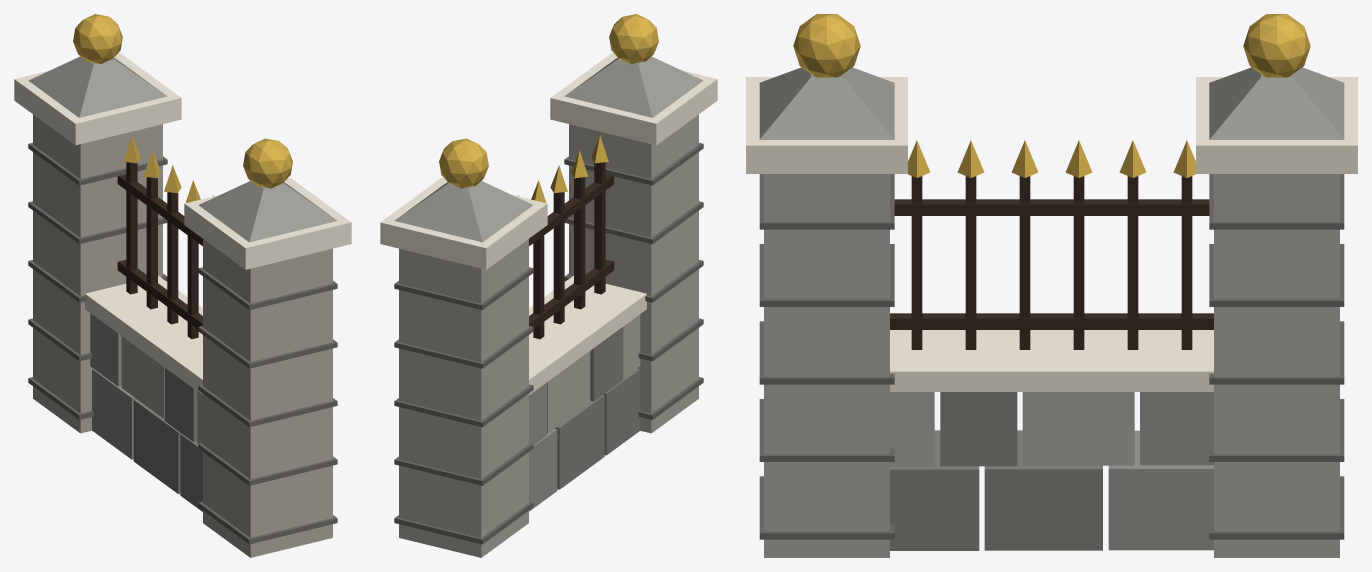
Rendered from fence-5.glb.
3 renders of one model, left to right at view 1: azimuth 30°, elevation 25°; view 2: azimuth 150°, elevation 25°; view 3: azimuth 270°, elevation 25°, orthographic. The views are drawn at different scales.
Parts seen in each view (by area): view 1: Fence5_Panel; view 2: Fence5_Panel; view 3: Fence5_Panel.
Boxes of the visible parts, box(x1,y1,x2,y2) form: Fence5_Panel: box(14, 14, 351, 557); Fence5_Panel: box(380, 14, 717, 557); Fence5_Panel: box(746, 14, 1357, 557).
Size of the model in its own units: 0.36 by 1.27 by 1.36.
